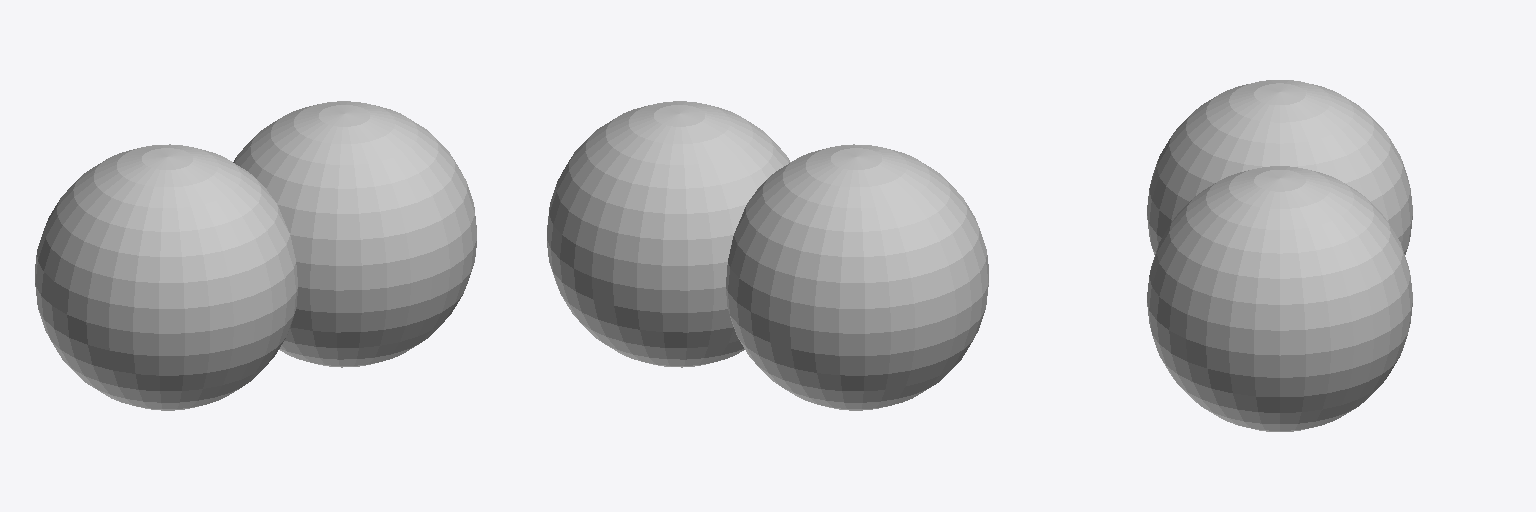
File: beforeCompleteCollision3.obj
The picture shows the model from 3 angles: view 1: azimuth 30°, elevation 25°; view 2: azimuth 150°, elevation 25°; view 3: azimuth 270°, elevation 25°; orthographic projection.
Parts seen in each view (by area): view 1: Sphere.001_Sphere.003; view 2: Sphere.001_Sphere.003; view 3: Sphere.001_Sphere.003.
Boxes of the visible parts, x1,y1,x2,y2 form: Sphere.001_Sphere.003: [35, 101, 476, 410]; Sphere.001_Sphere.003: [547, 101, 988, 410]; Sphere.001_Sphere.003: [1147, 80, 1412, 431].
Size of the model in its own units: 3.53 by 2 by 2.